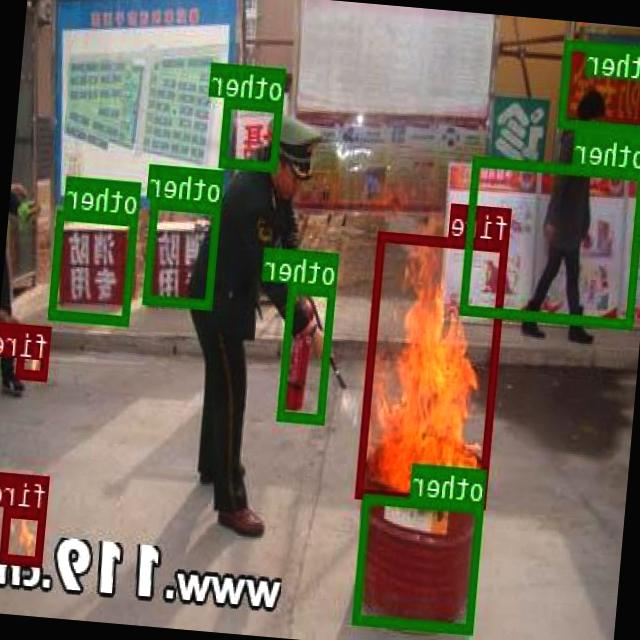fire: (356, 230, 508, 507), (2, 505, 48, 564), (18, 322, 52, 380)
